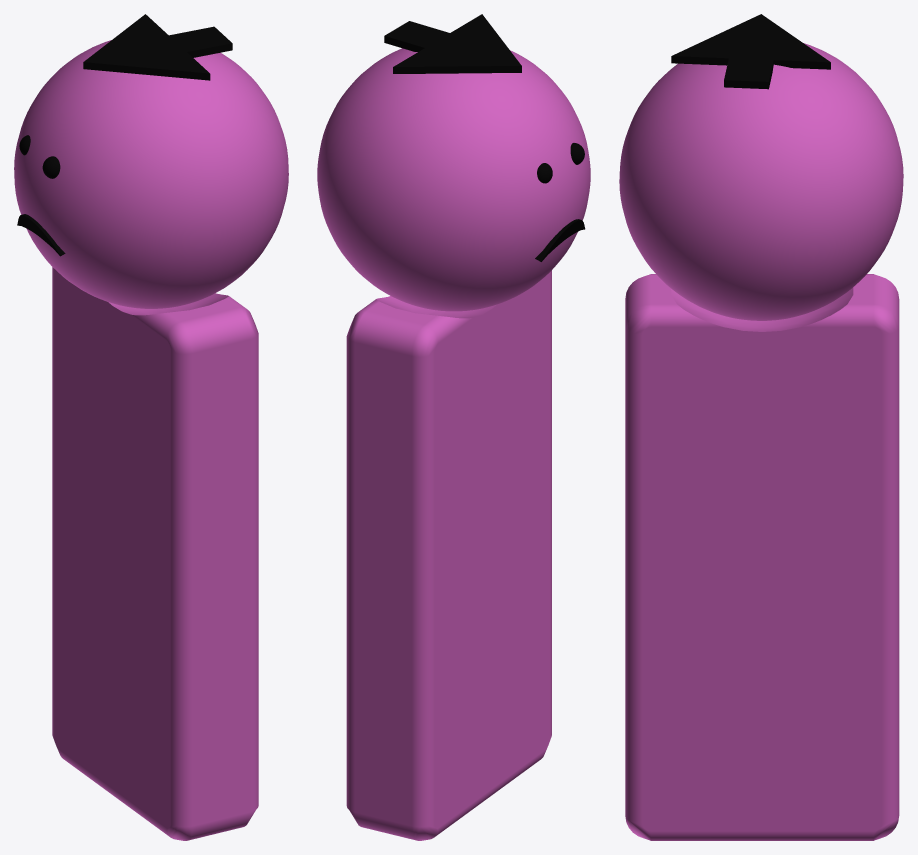
Rendered from pink_sad.obj.
3 renders of one model, left to right at view 1: azimuth 30°, elevation 25°; view 2: azimuth 150°, elevation 25°; view 3: azimuth 270°, elevation 25°, orthographic. The views are drawn at different scales.
Visible parts, largest first — view 1: 1_Curve.002_Curve.002, 5.002_Curve.002_Curve.003_5.002_Curve.002_Curve.001; view 2: 1_Curve.002_Curve.002, 5.002_Curve.002_Curve.003_5.002_Curve.002_Curve.001; view 3: 1_Curve.002_Curve.002, 5.002_Curve.002_Curve.003_5.002_Curve.002_Curve.001.
Part boxes in pixels (box(x1,y1,x2,y2)): 1_Curve.002_Curve.002: box(14, 40, 288, 840); 5.002_Curve.002_Curve.003_5.002_Curve.002_Curve.001: box(17, 14, 232, 256); 1_Curve.002_Curve.002: box(317, 48, 590, 840); 5.002_Curve.002_Curve.003_5.002_Curve.002_Curve.001: box(384, 14, 585, 261); 1_Curve.002_Curve.002: box(619, 43, 903, 840); 5.002_Curve.002_Curve.003_5.002_Curve.002_Curve.001: box(671, 14, 830, 89).
Size of the model in its own units: 0.1677 by 0.4993 by 0.1661.
